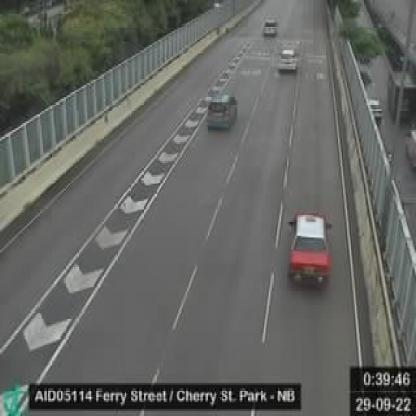Car: (282, 199, 341, 302), (203, 83, 239, 142), (272, 43, 303, 76), (258, 12, 280, 40)
